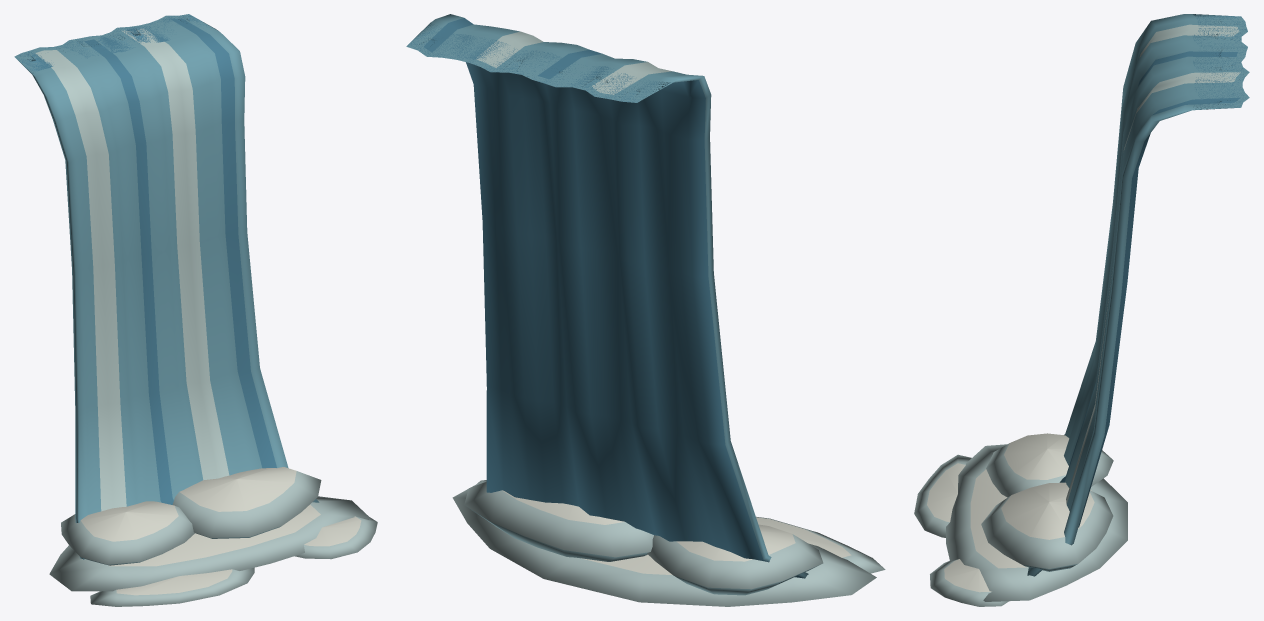
The model's file is fw_waterfall_ribbon_foam.glb.
3 views of the same model, side by side, from view 1: azimuth 30°, elevation 25°; view 2: azimuth 150°, elevation 25°; view 3: azimuth 270°, elevation 25° (orthographic). The views are drawn at different scales.
Parts seen in each view (by area): view 1: body; view 2: body; view 3: body.
Part boxes in pixels (x1=…): body: x1=14, y1=14, x2=377, y2=606; body: x1=406, y1=14, x2=885, y2=606; body: x1=914, y1=14, x2=1249, y2=606.
Bounding box in the file's own units: 1.93 × 2.69 × 1.73.
